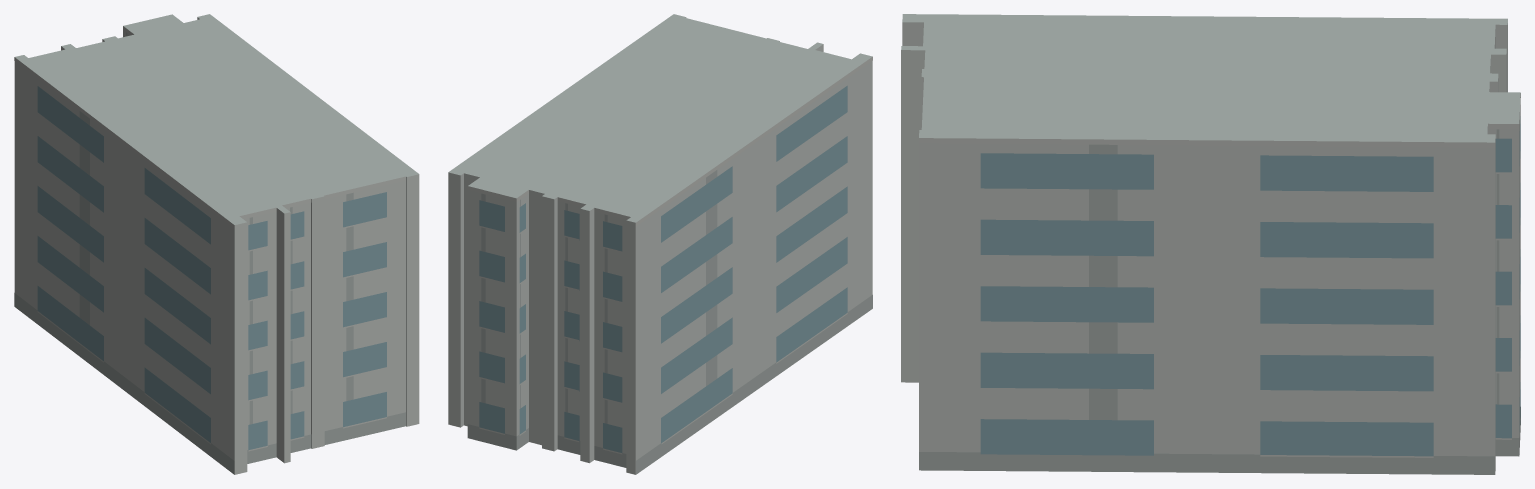
File: survey-upis-32772210.glb
The picture shows the model from 3 angles, left to right: view 1: azimuth 30°, elevation 25°; view 2: azimuth 150°, elevation 25°; view 3: azimuth 270°, elevation 25°; orthographic projection. The views are drawn at different scales.
Parts seen in each view (by area): view 1: survey-upis-32772210.tmp; view 2: survey-upis-32772210.tmp; view 3: survey-upis-32772210.tmp.
Part boxes in pixels (x1=…): survey-upis-32772210.tmp: x1=14, y1=14, x2=419, y2=474; survey-upis-32772210.tmp: x1=448, y1=14, x2=872, y2=474; survey-upis-32772210.tmp: x1=901, y1=14, x2=1520, y2=474.
Size of the model in its own units: 12.66 by 15.25 by 25.77.
